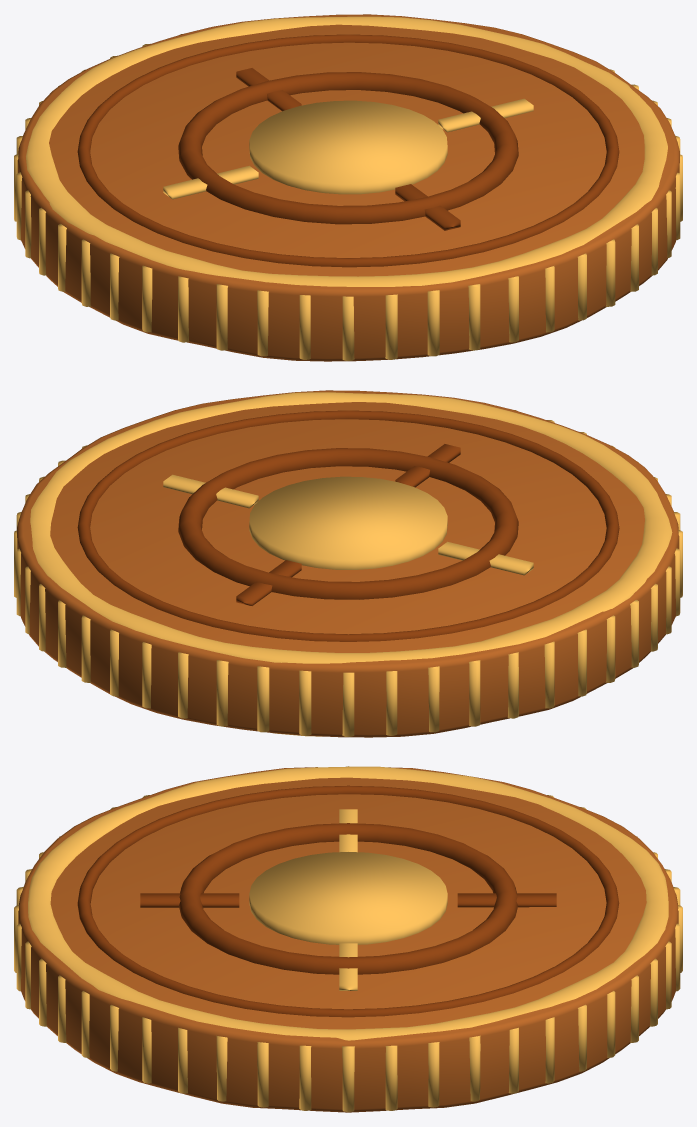
The model's file is token-copper_obol.glb.
The picture shows the model from 3 angles, top to bottom: view 1: azimuth 30°, elevation 25°; view 2: azimuth 150°, elevation 25°; view 3: azimuth 270°, elevation 25°; orthographic projection.
Visible parts, largest first — view 1: TokenBody, TopRim, Cylinder, Torus.004, TopRim_Inner, Cube, Cube.002, Cube.003, EdgeReed_34, Cube.001, EdgeReed_33, EdgeReed_35 (+14 smaller); view 2: TokenBody, TopRim, Cylinder, Torus.004, TopRim_Inner, Cube, Cube.002, Cube.001, Cube.003, EdgeReed_14, EdgeReed_15, EdgeReed_13 (+14 smaller); view 3: TokenBody, TopRim, Cylinder, Torus.004, TopRim_Inner, Cube.003, Cube.001, EdgeReed_0, EdgeReed_1, EdgeReed_47, EdgeReed_2, EdgeReed_46 (+15 smaller).
Boxes of the visible parts, bbox=[...] form: TokenBody: bbox=[17, 14, 679, 361]; TopRim: bbox=[26, 16, 667, 286]; Cylinder: bbox=[249, 100, 447, 194]; Torus.004: bbox=[178, 72, 518, 224]; TopRim_Inner: bbox=[77, 34, 619, 267]; Cube: bbox=[438, 98, 533, 132]; Cube.002: bbox=[163, 165, 258, 199]; Cube.003: bbox=[395, 184, 460, 230]; EdgeReed_34: bbox=[427, 290, 439, 356]; Cube.001: bbox=[236, 68, 301, 111]; EdgeReed_33: bbox=[385, 294, 397, 359]; EdgeReed_35: bbox=[468, 284, 480, 350]; TokenBody: bbox=[17, 390, 679, 737]; TopRim: bbox=[30, 392, 672, 663]; Cylinder: bbox=[249, 476, 447, 569]; Torus.004: bbox=[178, 448, 518, 599]; TopRim_Inner: bbox=[77, 410, 619, 641]; Cube: bbox=[163, 474, 258, 508]; Cube.002: bbox=[438, 541, 533, 575]; Cube.001: bbox=[236, 560, 301, 605]; Cube.003: bbox=[395, 444, 460, 487]; EdgeReed_14: bbox=[257, 666, 269, 732]; EdgeReed_15: bbox=[299, 670, 311, 735]; EdgeReed_13: bbox=[216, 660, 228, 726]; TokenBody: bbox=[18, 767, 678, 1112]; TopRim: bbox=[28, 766, 668, 1040]; Cylinder: bbox=[249, 852, 447, 944]; Torus.004: bbox=[179, 823, 517, 974]; TopRim_Inner: bbox=[77, 785, 619, 1017]; Cube.003: bbox=[140, 893, 239, 907]; Cube.001: bbox=[457, 893, 556, 907]; EdgeReed_0: bbox=[342, 1046, 354, 1112]; EdgeReed_1: bbox=[385, 1045, 397, 1110]; EdgeReed_47: bbox=[299, 1045, 311, 1110]; EdgeReed_2: bbox=[428, 1042, 439, 1107]; EdgeReed_46: bbox=[257, 1042, 268, 1107].
Bounding box in the file's own units: 2.02 × 0.3181 × 2.02.
